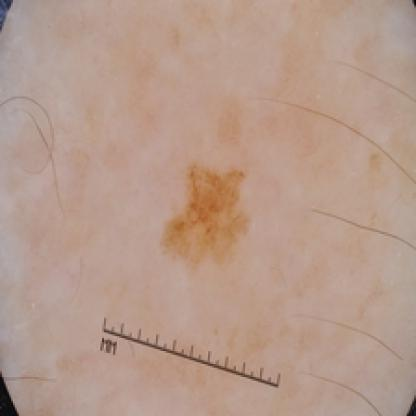malignant: (162, 162, 268, 260)
